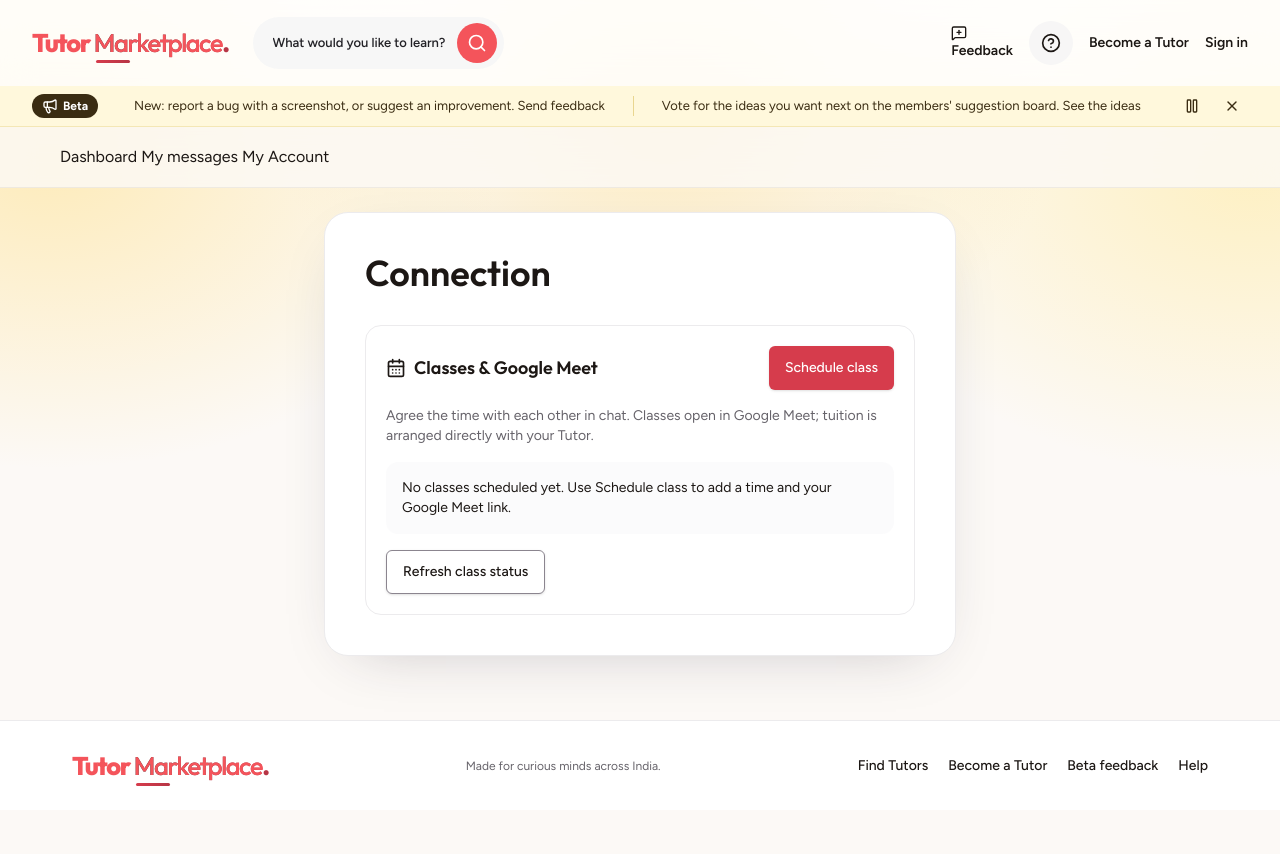
Test: saves an IST class and shows the server-saved card
Click the button "Schedule class".
click(831, 368)  # box [769,346,894,390]
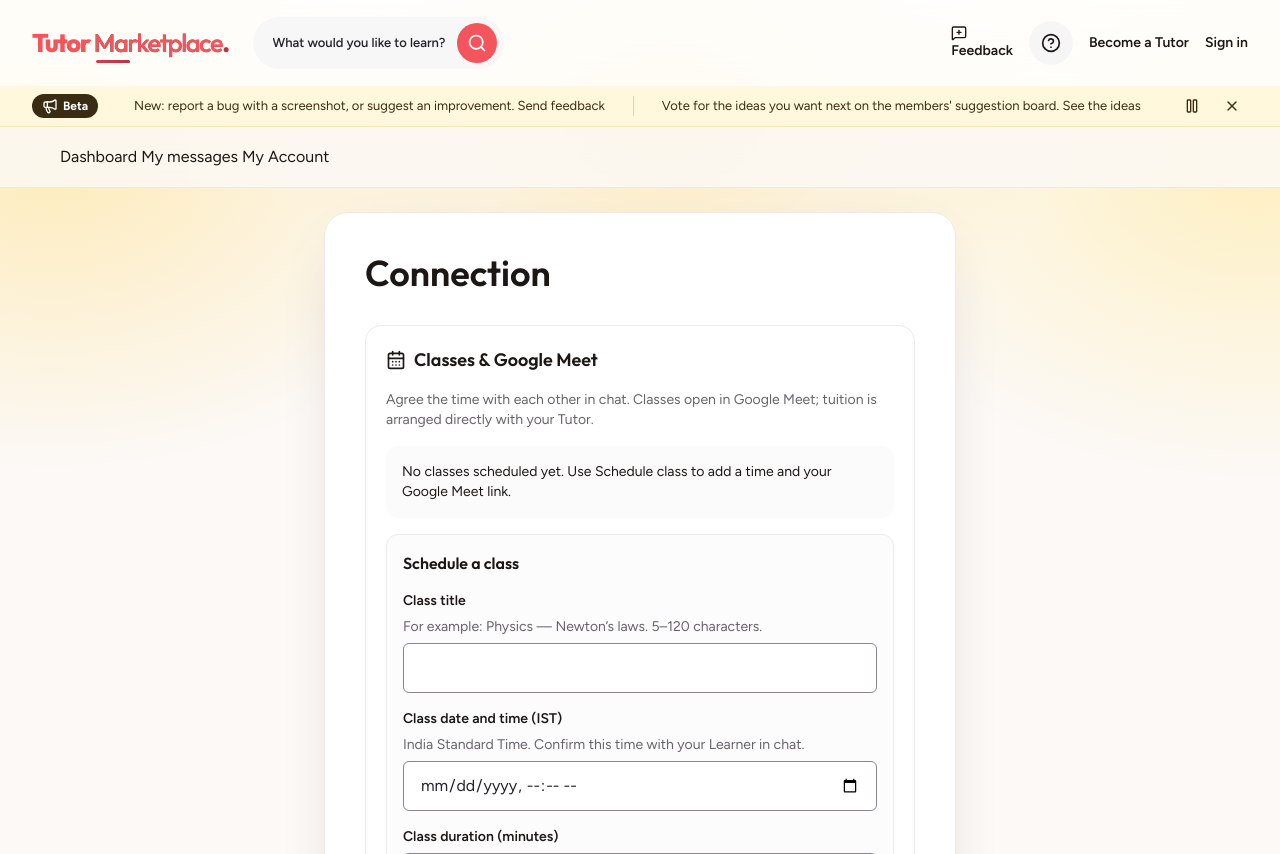
Type "Fictional Physics class" into the field labelled "Class title".
click(640, 668); type("Fictional Physics class")  # box [403,643,877,693]
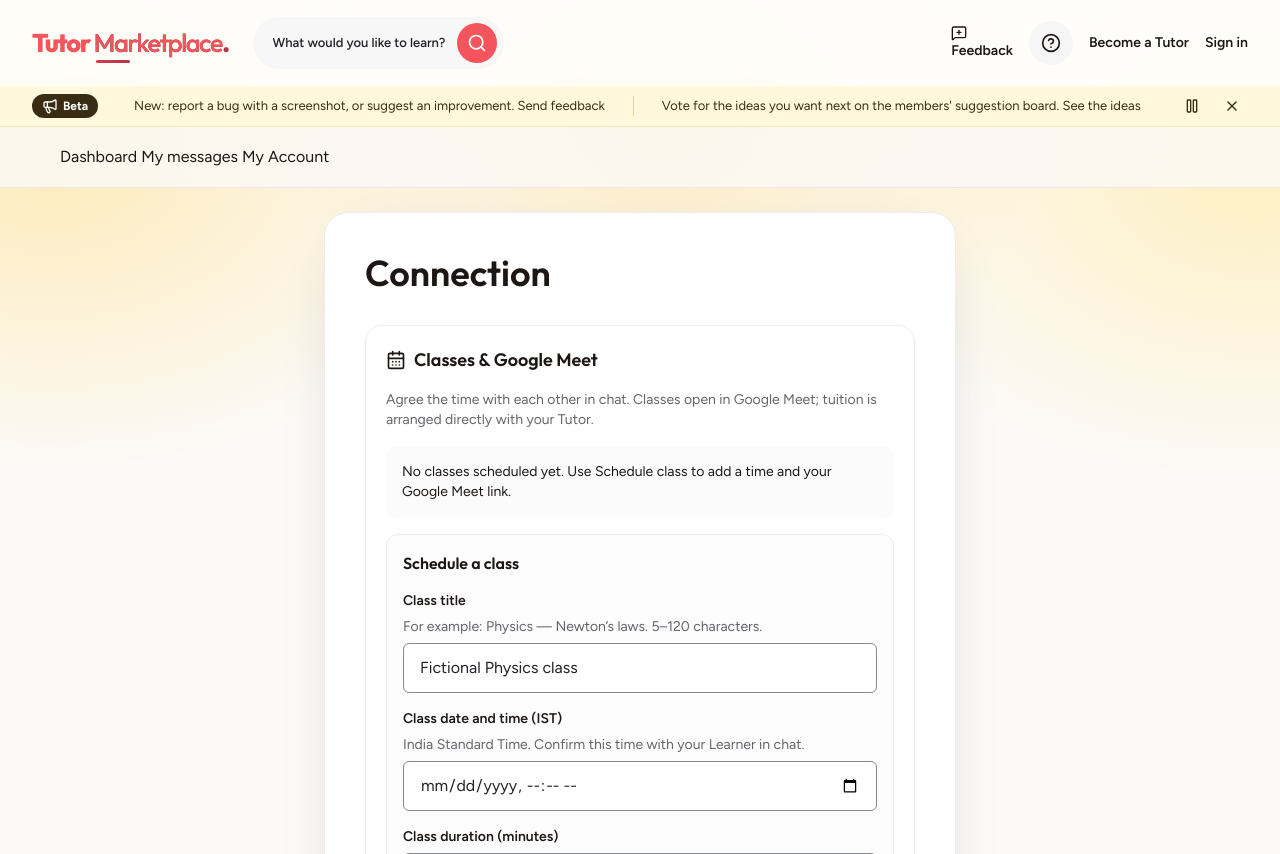
Type "2026-10-28T17:30" into the field labelled "Class date and time (IST)".
click(640, 786); type("2026-10-28T17:30")  # box [403,761,877,811]
(page scrolled)
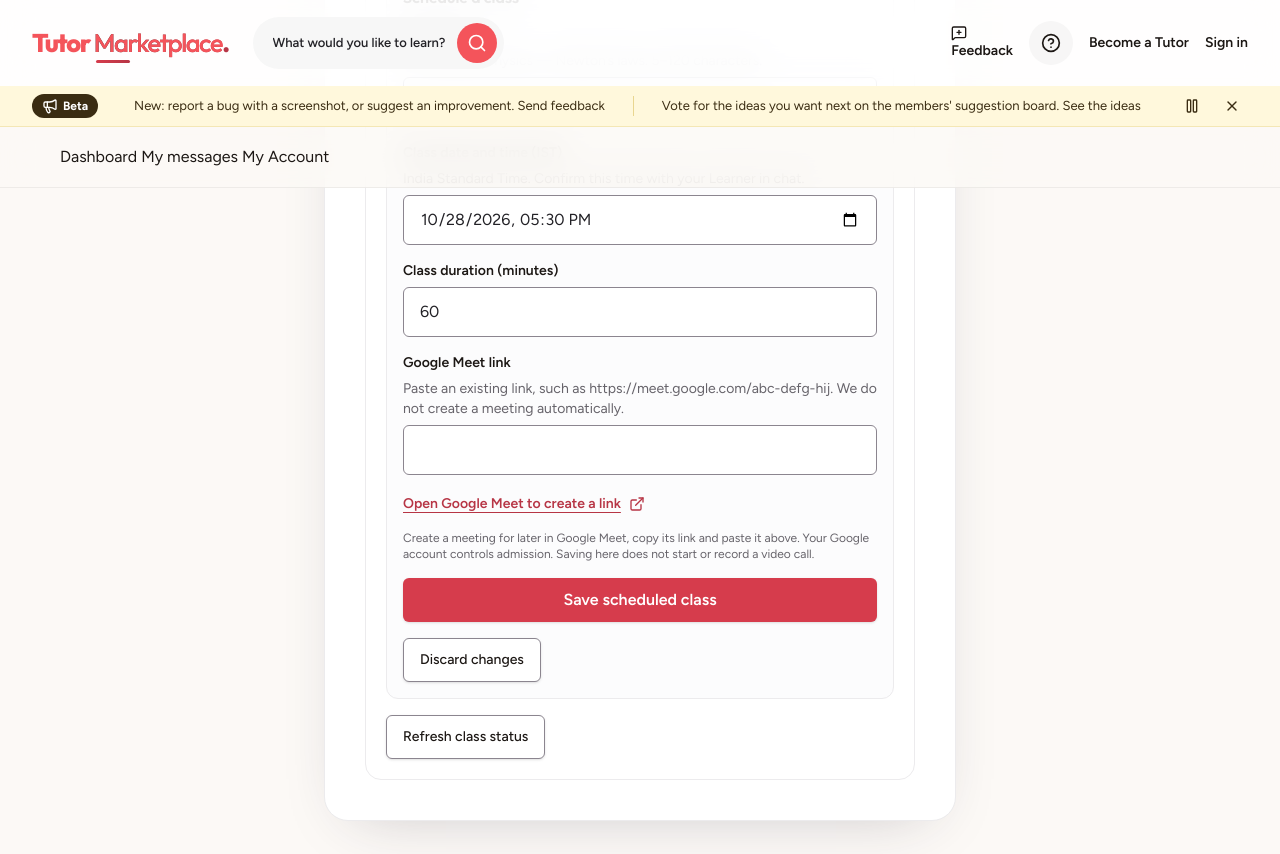
Type "https://meet.google.com/abc-defg-hij" into the field labelled "Google Meet link".
click(640, 450); type("https://meet.google.com/abc-defg-hij")  # box [403,425,877,475]
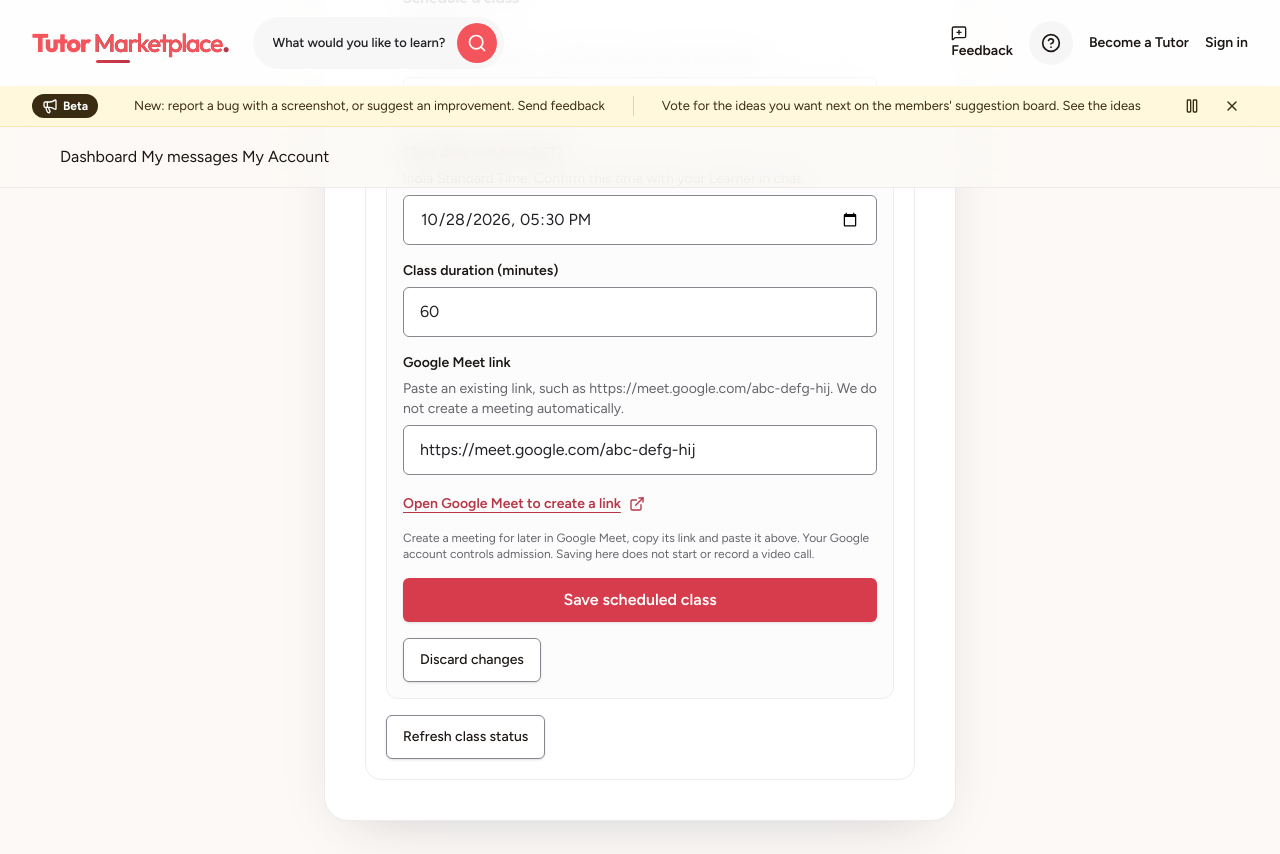
Click the button "Save scheduled class".
click(640, 600)  # box [403,578,877,622]
(page scrolled)
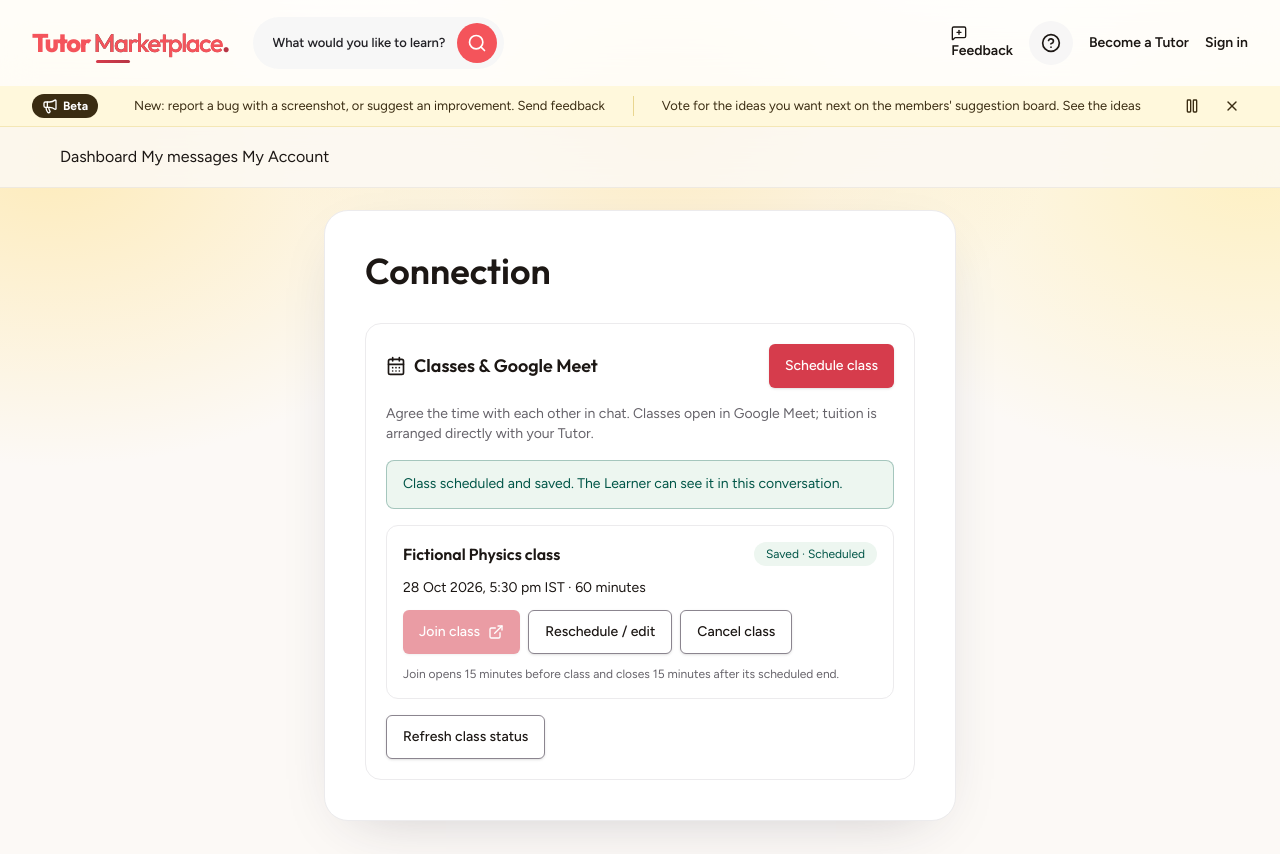
Expected: the text "Saved · Scheduled" is shown, [754,542,877,566]
Expected: the button "Join class" is disabled, [403,610,520,654]
